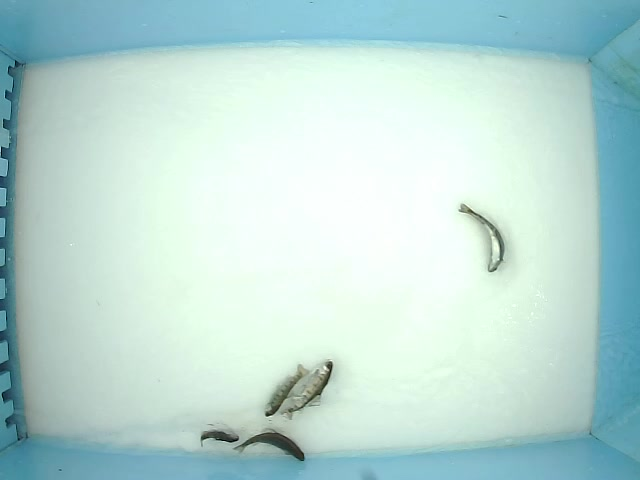fish: (457, 202, 506, 274), (280, 360, 333, 420), (262, 362, 310, 418), (232, 428, 306, 462), (195, 428, 240, 447)
